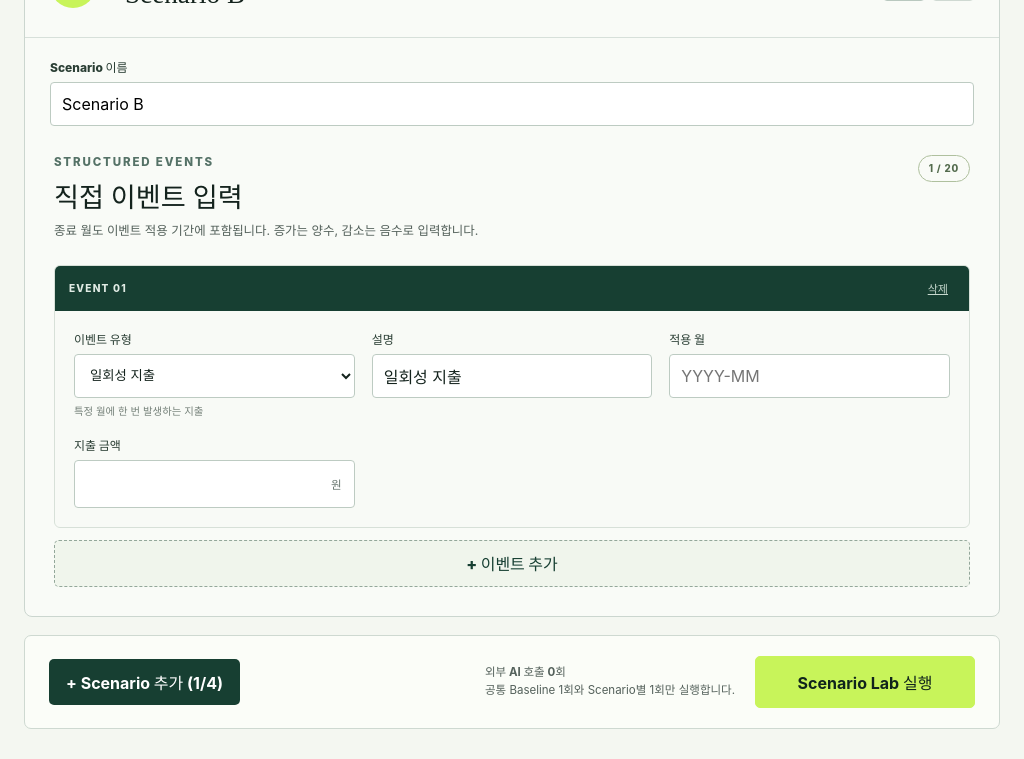
Test: ScenarioLabPage › shows safe authentication expiry and never writes scenarios or results to browser storage
This screenshot has width=1024, height=759.
(page scrolled)
Type "2026-09" into the field labelled "적용 월". click: (810, 376)
box: [669,354,950,398]
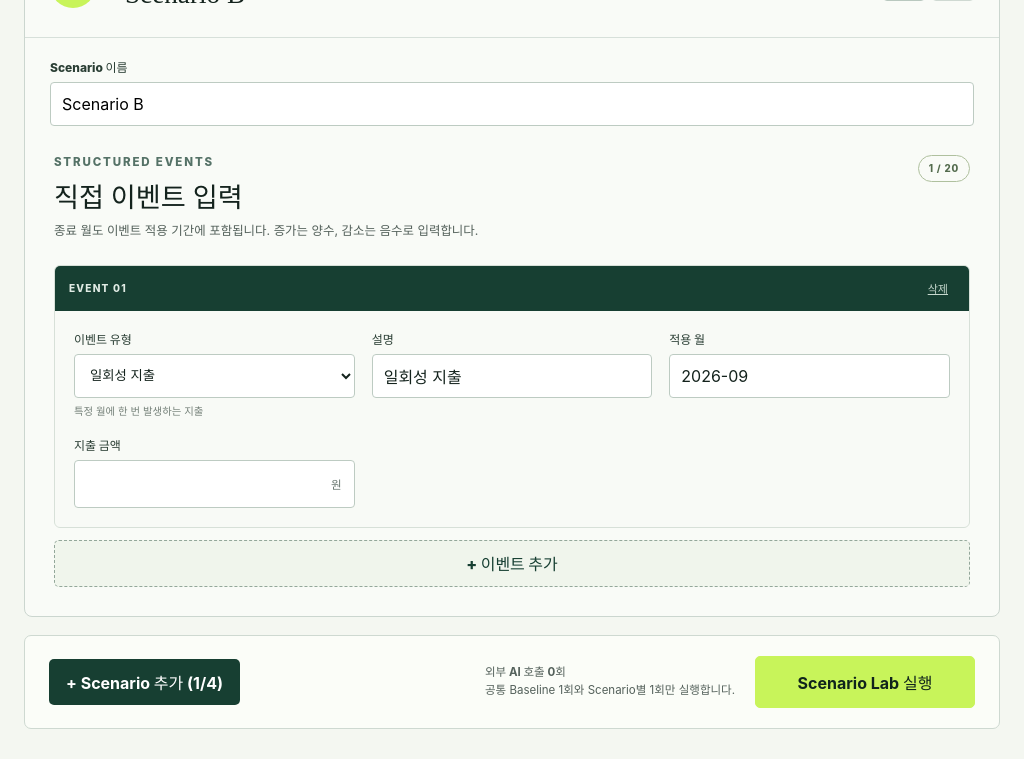
Type "1000000" into the field labelled "지출 금액". click: (197, 484)
box: [75,461,319,507]
(page scrolled)
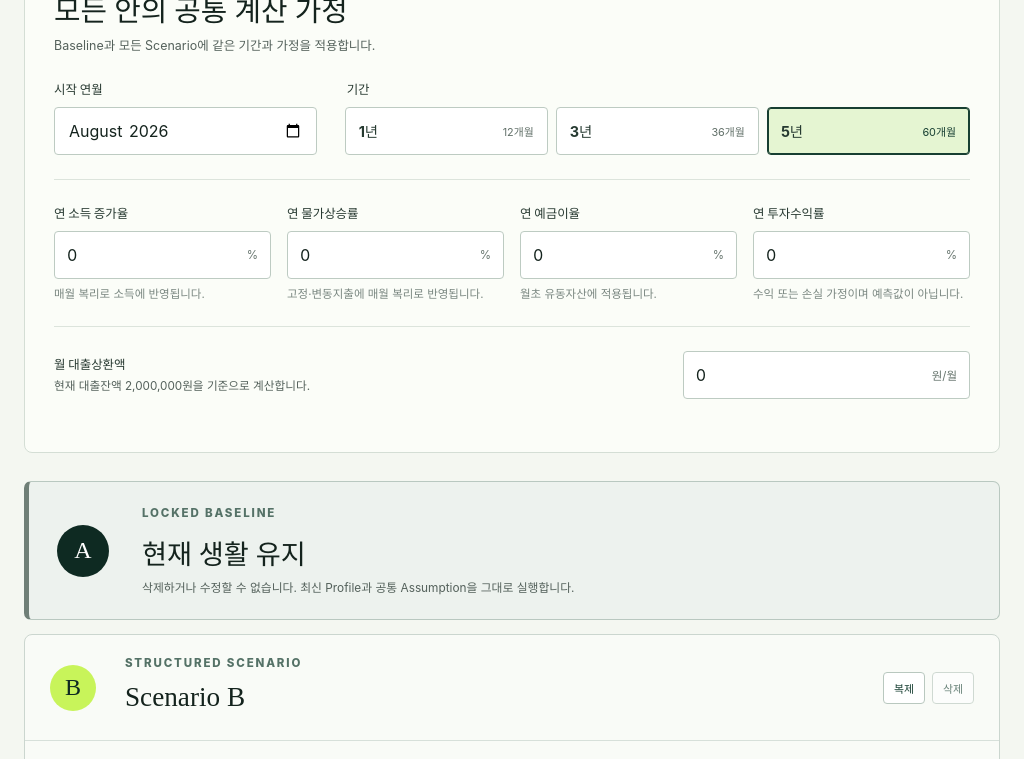
Replace the text in the field labelled "월 대출상환액" with "300000". click: (802, 375)
box: [684,352,920,398]
(page scrolled)
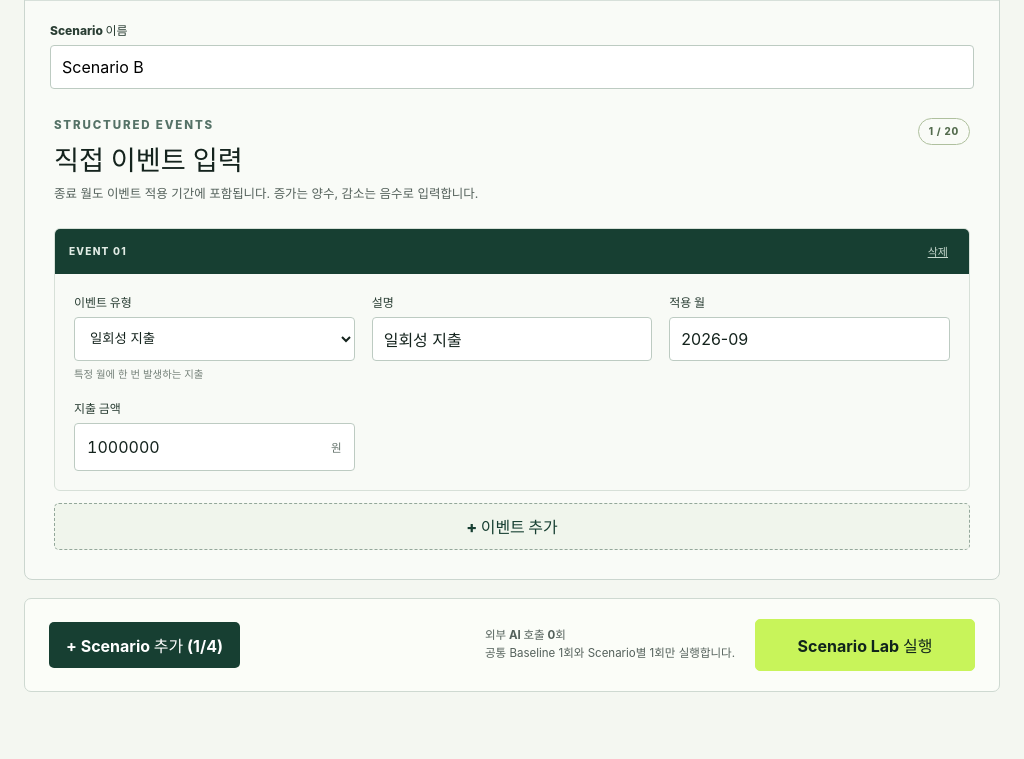
Click the button "Scenario Lab 실행". click: click(865, 645)
box: [755,619,975,671]
(page scrolled)
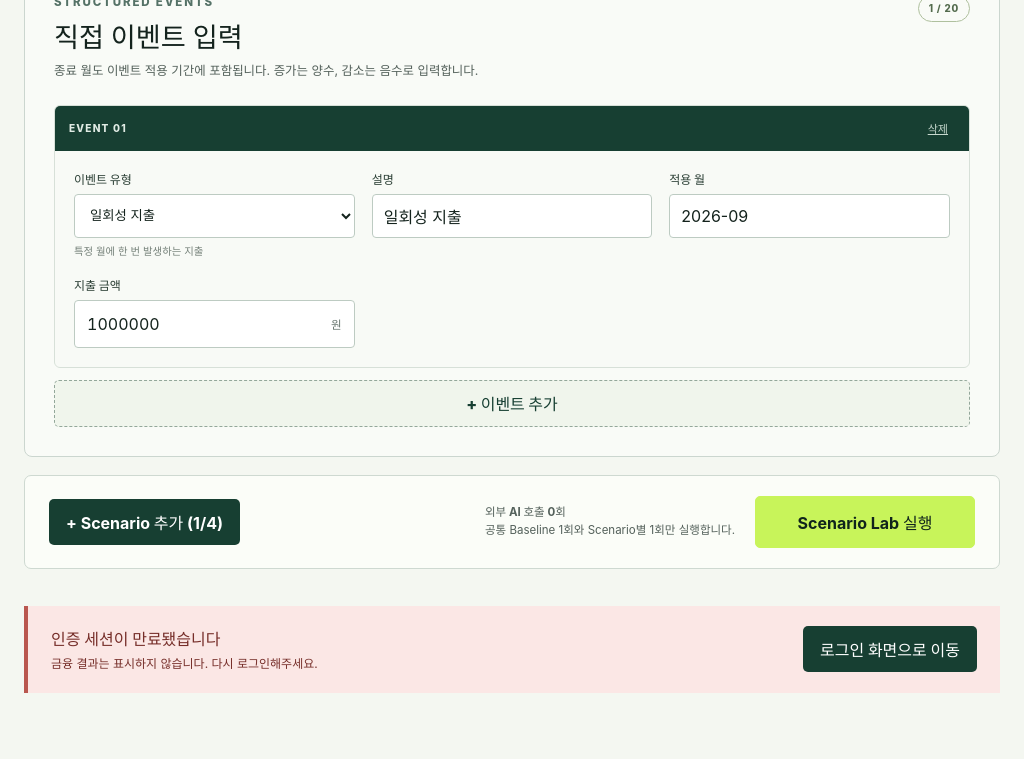
Expected: the text "인증 세션이 만료됐습니다" is shown, [51,629,220,649]
